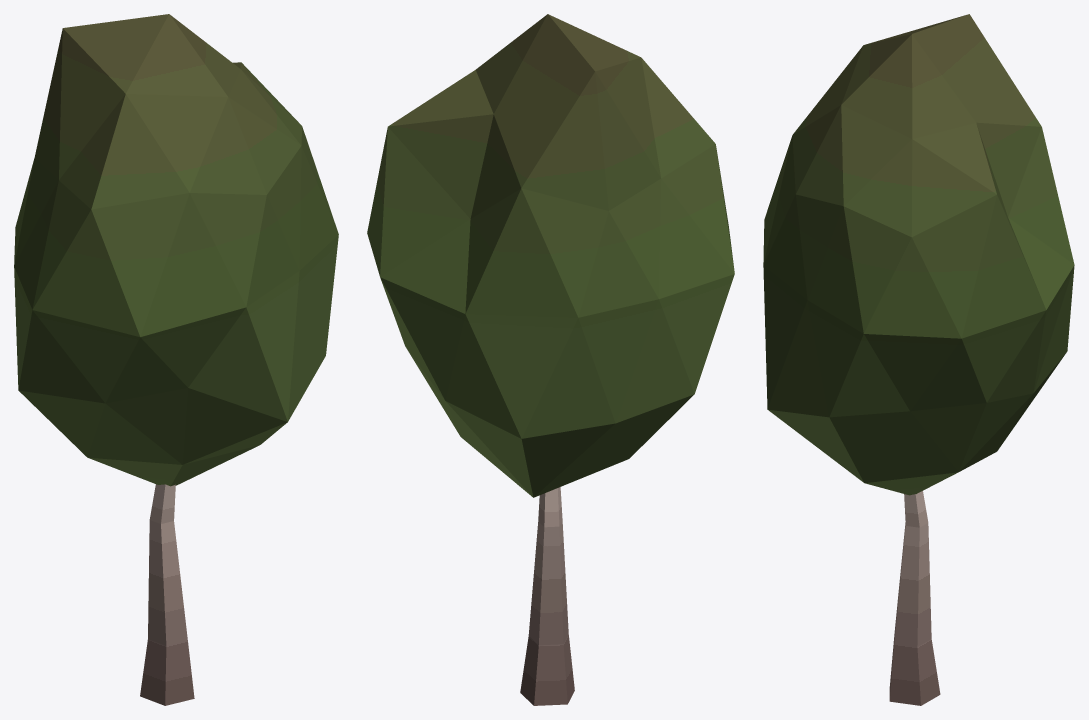
File: prop_tc_birch_tree.glb
The picture shows the model from 3 angles, left to right: view 1: azimuth 30°, elevation 25°; view 2: azimuth 150°, elevation 25°; view 3: azimuth 270°, elevation 25°; orthographic projection. The views are drawn at different scales.
Parts seen in each view (by area): view 1: LeafTree_2; view 2: LeafTree_2; view 3: LeafTree_2.
Boxes of the visible parts, <box> form: LeafTree_2: <box>14,14,338,705</box>; LeafTree_2: <box>367,14,734,705</box>; LeafTree_2: <box>763,14,1074,705</box>.
Bounding box in the file's own units: 0.989 × 2.03 × 0.8654.
Materials: 1 (1 with a texture image).
